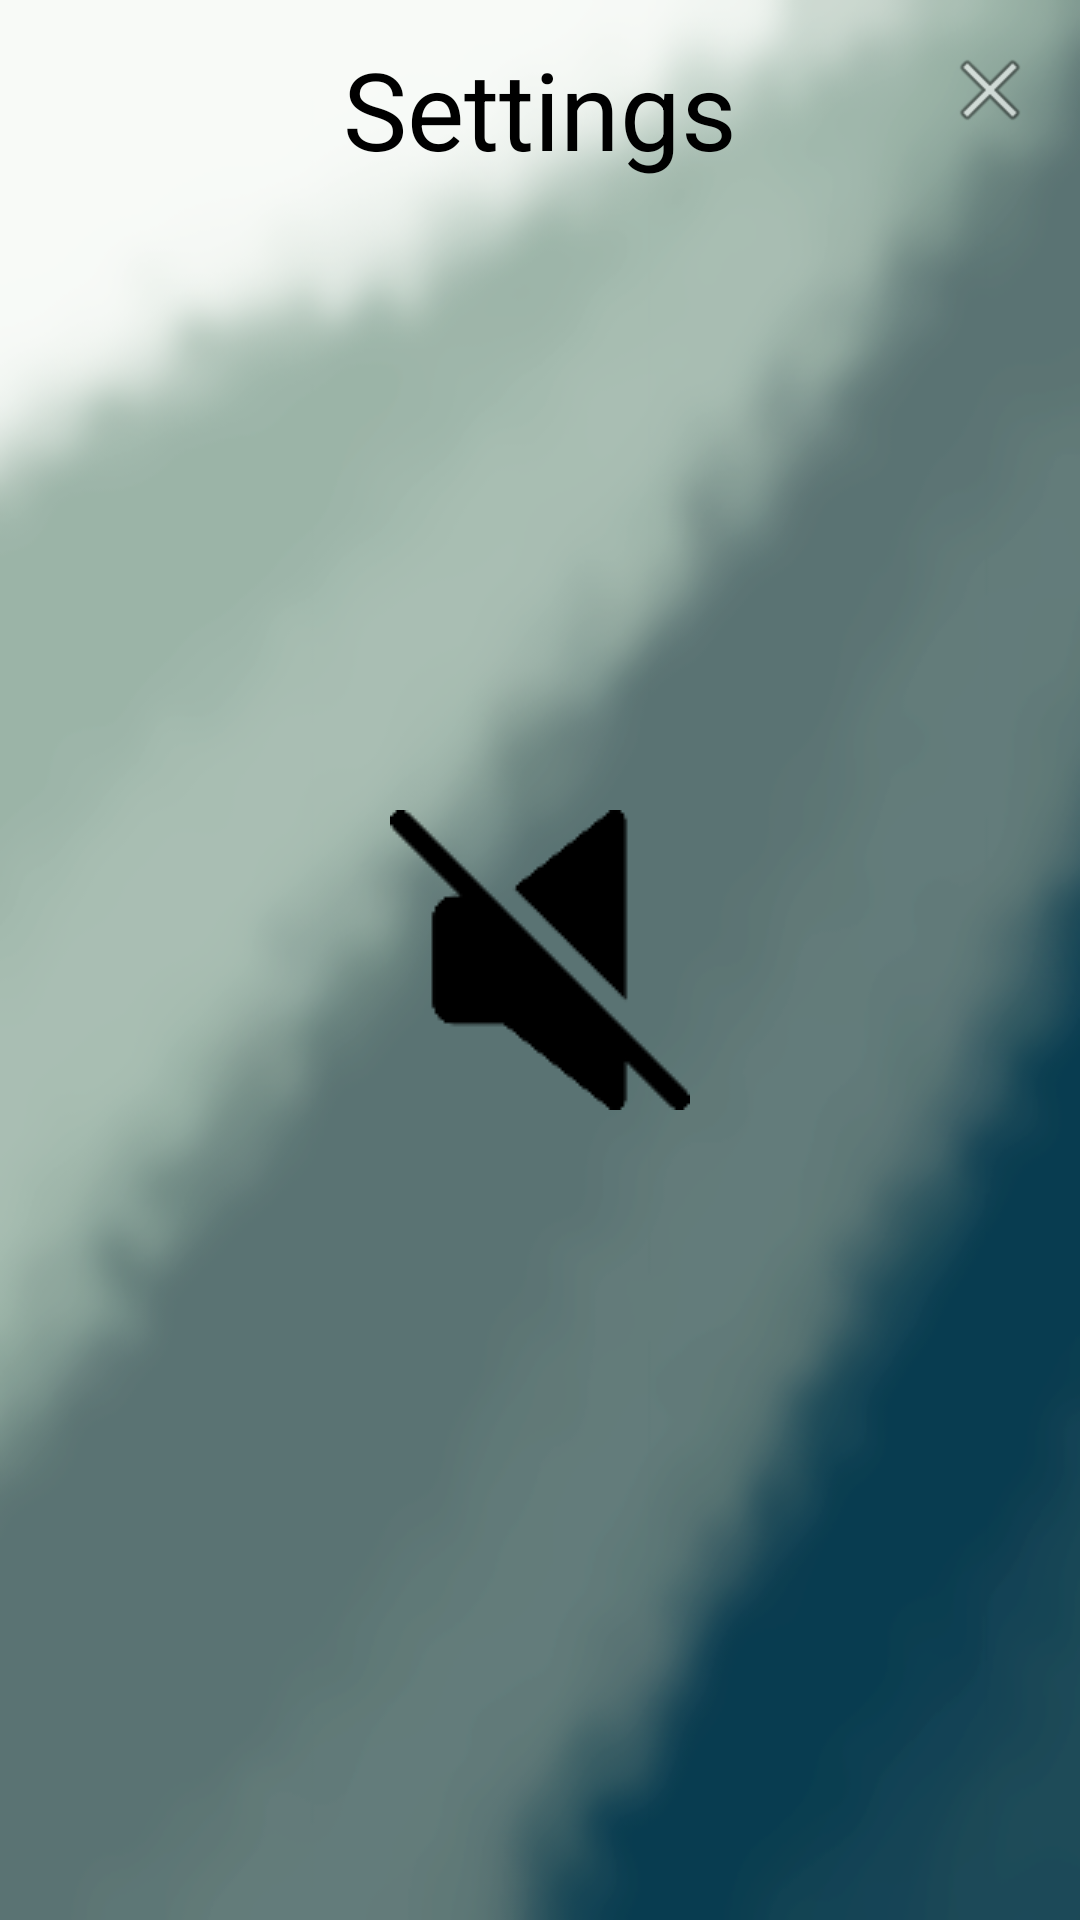

Icons on this 1080×1920 Android screen, each with the point to tap as point (x, y):
mute: point (540, 960)
